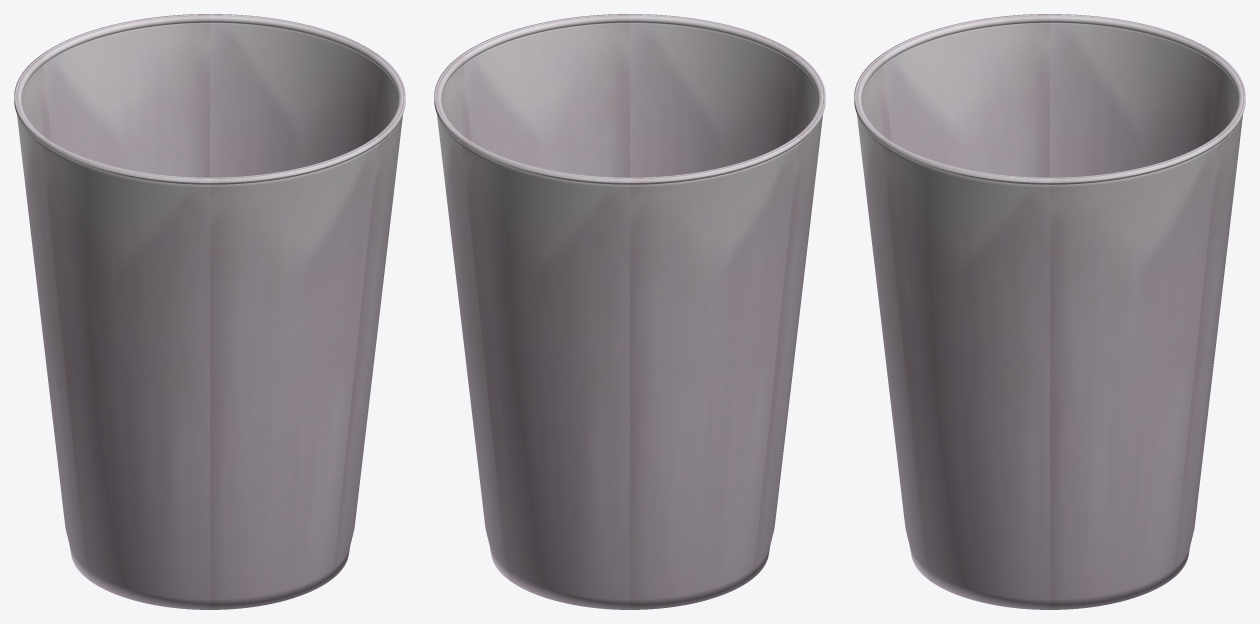
3 views of the same model, side by side, from view 1: azimuth 30°, elevation 25°; view 2: azimuth 150°, elevation 25°; view 3: azimuth 270°, elevation 25° (orthographic).
Parts seen in each view (by area): view 1: body; view 2: body; view 3: body.
Part boxes in pixels (box(x1,y1,x2,y2)): body: box(14, 14, 405, 609); body: box(434, 14, 825, 609); body: box(854, 14, 1245, 609).
Bounding box in the file's own units: 0.082 × 0.105 × 0.082.
Materials: 1 (1 with a texture image).
